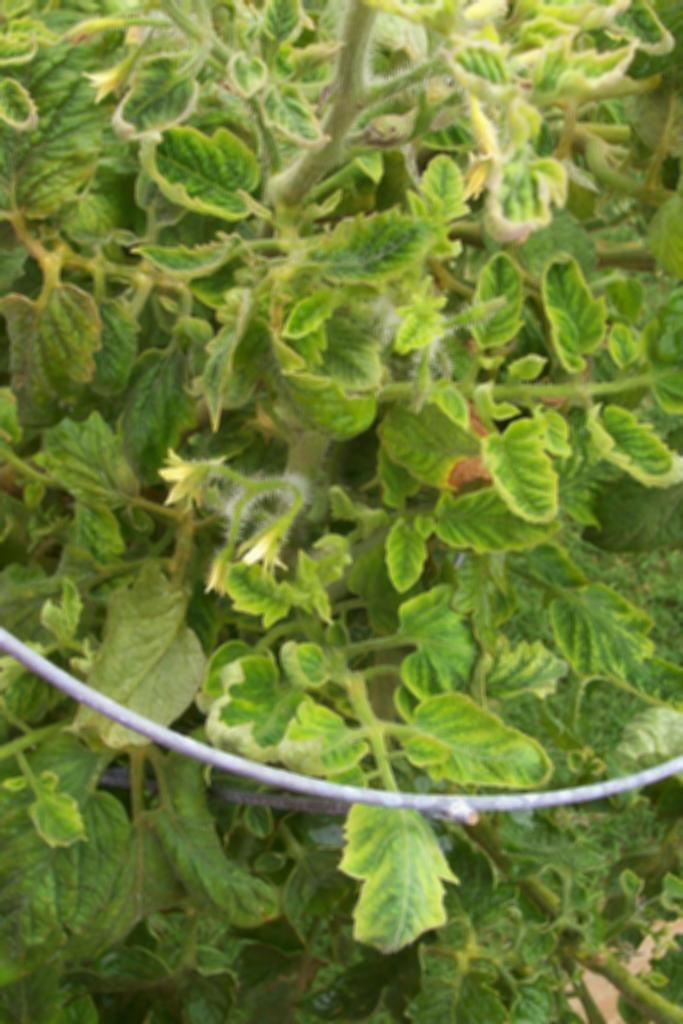Tomato leaf yellow virus: (337, 765, 456, 962), (276, 191, 458, 291), (395, 687, 555, 787), (128, 107, 262, 221), (468, 391, 576, 528), (276, 303, 383, 401), (426, 490, 595, 552), (585, 399, 680, 508), (271, 702, 383, 787), (535, 247, 604, 377), (15, 741, 94, 850), (411, 144, 471, 252), (468, 246, 523, 352), (376, 496, 433, 597), (221, 556, 313, 618)
